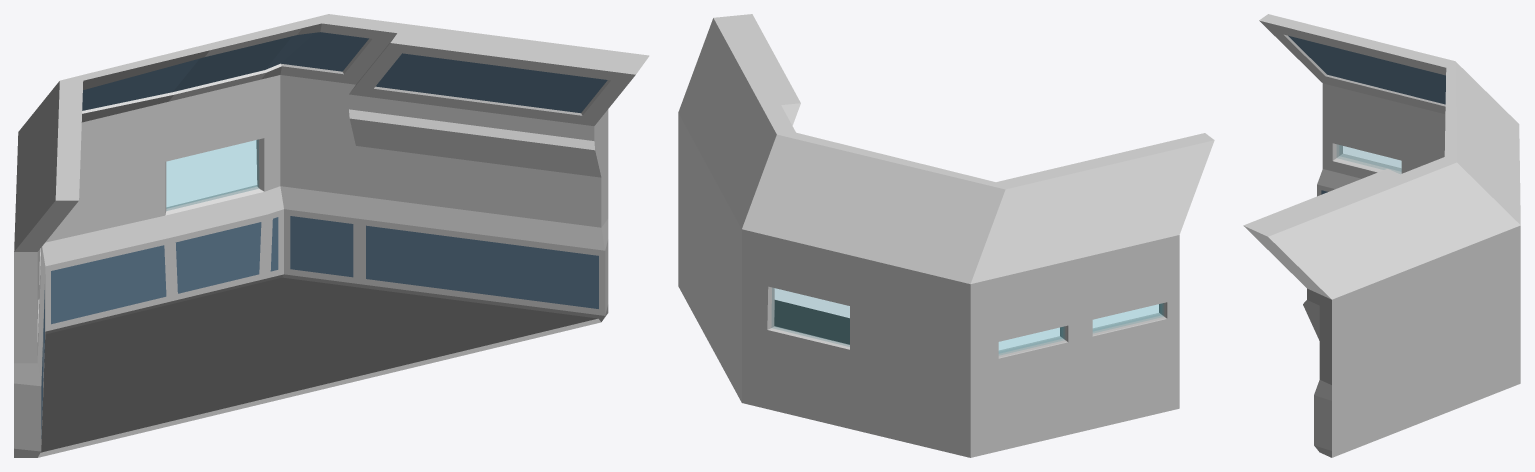
The model's file is ControlRoom.fbx.
3 views of the same model, side by side, from view 1: azimuth 30°, elevation 25°; view 2: azimuth 150°, elevation 25°; view 3: azimuth 270°, elevation 25° (orthographic). The views are drawn at different scales.
Visible parts, largest first — view 1: ControlRoom; view 2: ControlRoom; view 3: ControlRoom.
Part boxes in pixels (bbox=[...]): ControlRoom: bbox=[14, 14, 649, 457]; ControlRoom: bbox=[678, 14, 1214, 457]; ControlRoom: bbox=[1243, 14, 1520, 457].
Bounding box in the file's own units: 5857 × 2710 × 3083.
